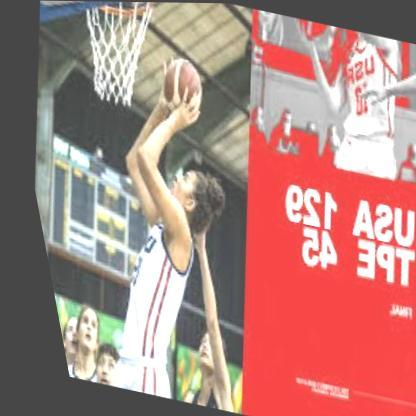basketball: (150, 52, 209, 123)
rim: (85, 1, 159, 30)
